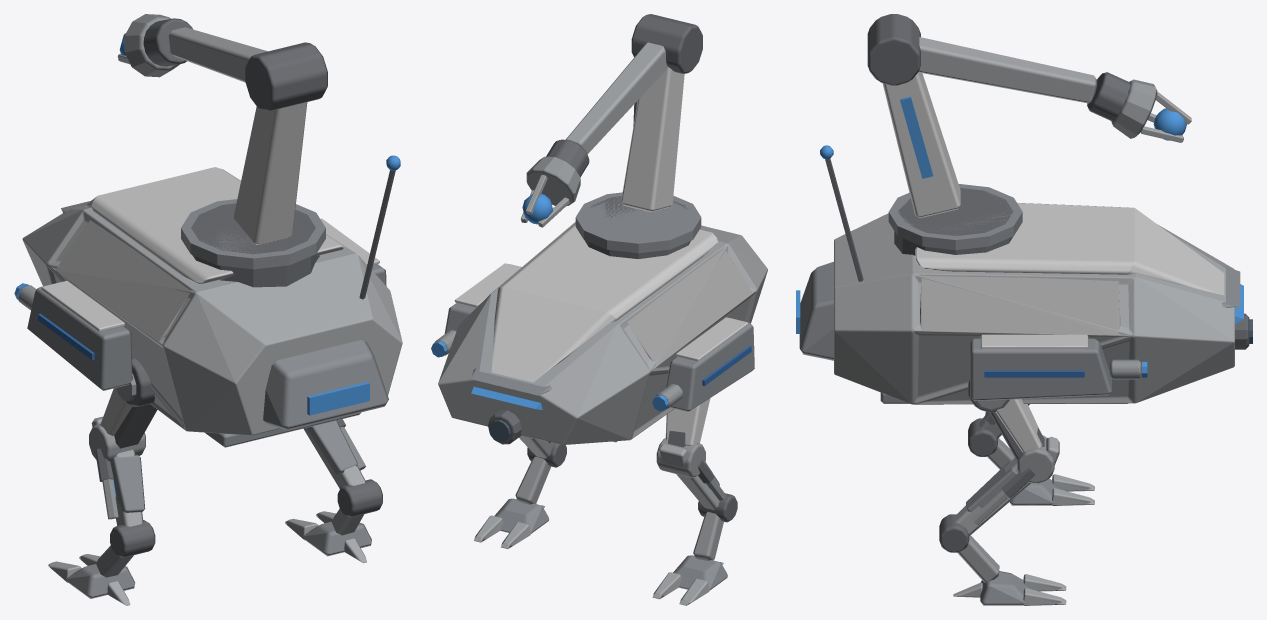
The model's file is lattice_surveyor.glb.
3 renders of one model, left to right at view 1: azimuth 30°, elevation 25°; view 2: azimuth 150°, elevation 25°; view 3: azimuth 270°, elevation 25°, orthographic. The views are drawn at different scales.
Visible parts, largest first — view 1: Body; view 2: Body; view 3: Body.
Boxes of the visible parts, x1,y1,x2,y2 form: Body: (14,14,402,605); Body: (431,14,767,605); Body: (796,14,1252,605).
Bounding box in the file's own units: 0.87 × 1.6 × 1.28.
